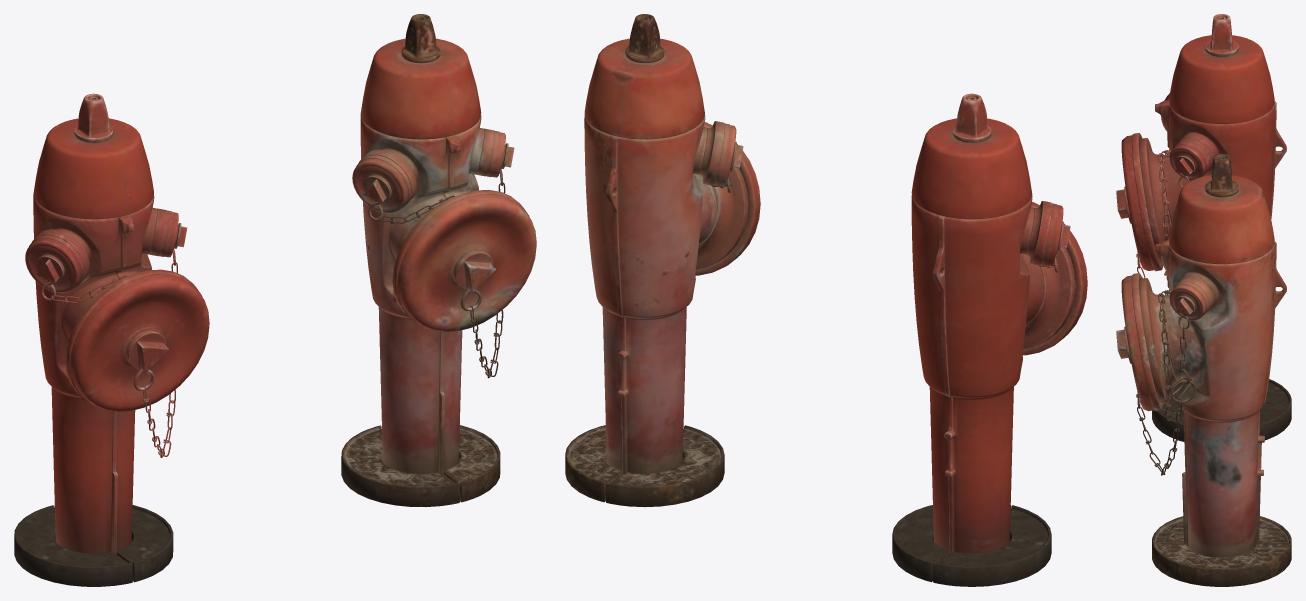
The model's file is fire_hydrant.glb.
3 renders of one model, left to right at view 1: azimuth 30°, elevation 25°; view 2: azimuth 150°, elevation 25°; view 3: azimuth 270°, elevation 25°, orthographic. The views are drawn at different scales.
Visible parts, largest first — view 1: fire_hydrant_aged, fire_hydrant, fire_hydrant_cap_01, fire_hydrant_cap_01_aged, fire_hydrant_cap_03_aged, fire_hydrant_cap_03, fire_hydrant_chain_aged, fire_hydrant_chain, fire_hydrant_cap_02, fire_hydrant_cap_02_aged; view 2: fire_hydrant_aged, fire_hydrant, fire_hydrant_cap_01_aged, fire_hydrant_cap_01, fire_hydrant_cap_03_aged, fire_hydrant_cap_03; view 3: fire_hydrant_aged, fire_hydrant, fire_hydrant_cap_01, fire_hydrant_cap_01_aged, fire_hydrant_chain_aged, fire_hydrant_cap_02_aged, fire_hydrant_cap_02, fire_hydrant_chain.
Part boxes in pixels (x1=…): fire_hydrant_aged: x1=341, y1=14, x2=500, y2=506; fire_hydrant: x1=14, y1=93, x2=173, y2=586; fire_hydrant_cap_01: x1=65, y1=269, x2=209, y2=411; fire_hydrant_cap_01_aged: x1=392, y1=190, x2=536, y2=331; fire_hydrant_cap_03_aged: x1=352, y1=155, x2=411, y2=213; fire_hydrant_cap_03: x1=25, y1=235, x2=84, y2=293; fire_hydrant_chain_aged: x1=368, y1=145, x2=505, y2=378; fire_hydrant_chain: x1=41, y1=224, x2=178, y2=457; fire_hydrant_cap_02: x1=159, y1=210, x2=187, y2=257; fire_hydrant_cap_02_aged: x1=486, y1=130, x2=514, y2=177; fire_hydrant_aged: x1=565, y1=14, x2=748, y2=507; fire_hydrant: x1=892, y1=93, x2=1075, y2=586; fire_hydrant_cap_01_aged: x1=695, y1=122, x2=760, y2=275; fire_hydrant_cap_01: x1=1022, y1=202, x2=1087, y2=355; fire_hydrant_cap_03_aged: x1=713, y1=123, x2=743, y2=186; fire_hydrant_cap_03: x1=1041, y1=203, x2=1070, y2=266; fire_hydrant_aged: x1=1139, y1=154, x2=1291, y2=586; fire_hydrant: x1=1139, y1=14, x2=1291, y2=441; fire_hydrant_cap_01: x1=1116, y1=133, x2=1162, y2=271; fire_hydrant_cap_01_aged: x1=1116, y1=273, x2=1162, y2=411; fire_hydrant_chain_aged: x1=1136, y1=289, x2=1196, y2=475; fire_hydrant_cap_02_aged: x1=1169, y1=281, x2=1209, y2=320; fire_hydrant_cap_02: x1=1169, y1=141, x2=1209, y2=180; fire_hydrant_chain: x1=1136, y1=149, x2=1194, y2=279.
Size of the model in its own units: 0.8746 by 0.7995 by 0.3177.
Materials: 2 (2 with a texture image).
